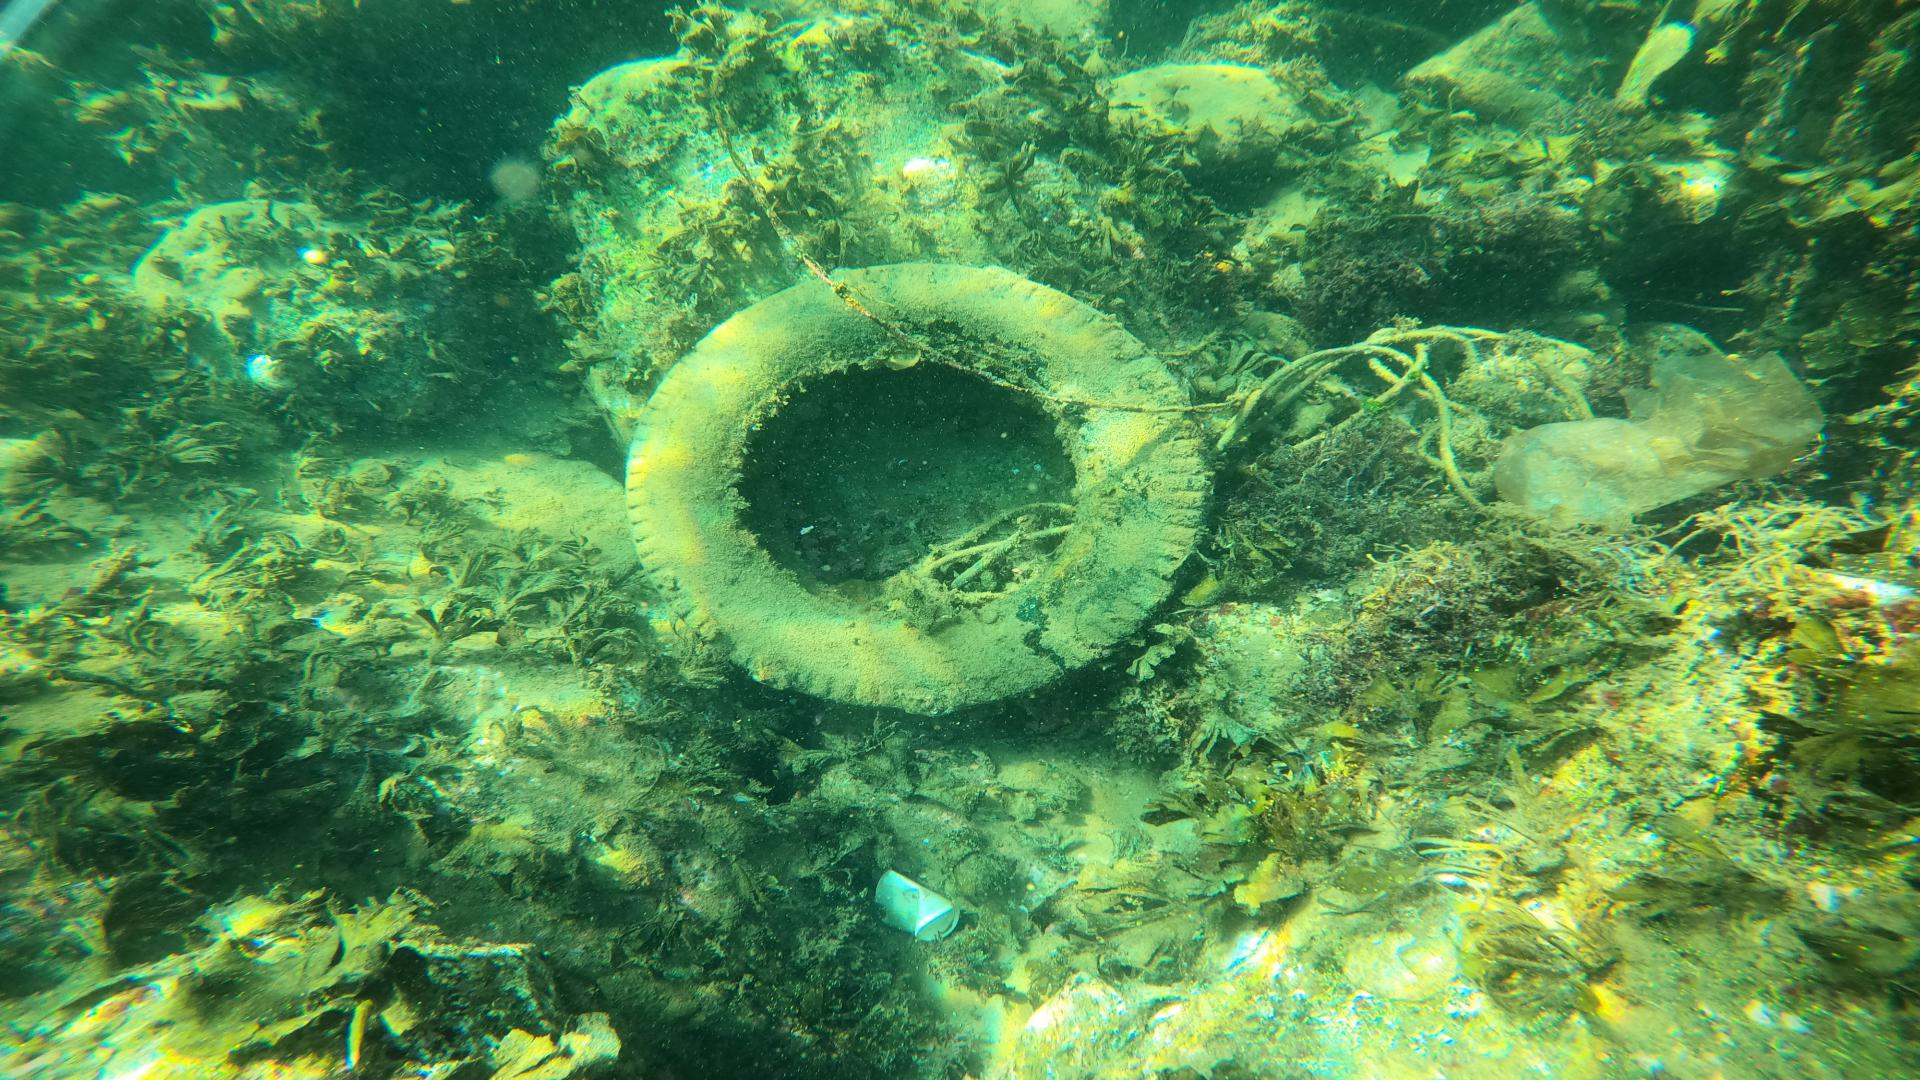tire: (625, 258, 1211, 713)
